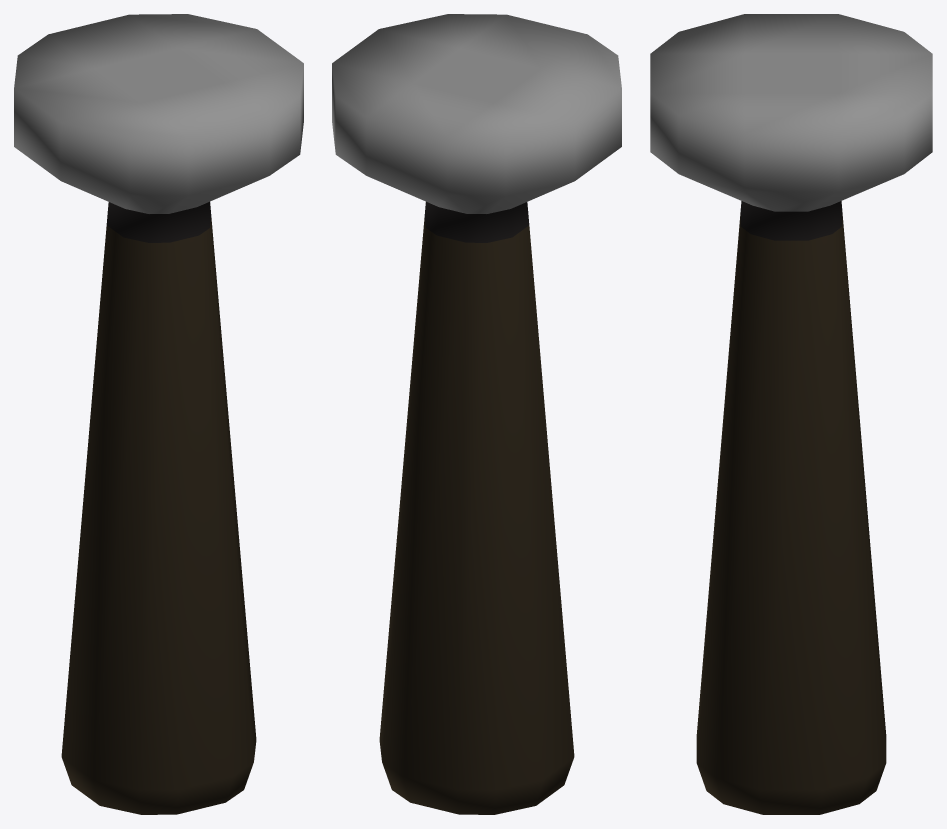
Rendered from Torch.fbx.
3 renders of one model, left to right at view 1: azimuth 30°, elevation 25°; view 2: azimuth 150°, elevation 25°; view 3: azimuth 270°, elevation 25°, orthographic.
Parts seen in each view (by area): view 1: Cube; view 2: Cube; view 3: Cube.
Part boxes in pixels (x1,y1,x2,y2): Cube: (14, 14, 303, 814); Cube: (332, 14, 621, 814); Cube: (650, 14, 932, 814).
Size of the model in its own units: 87 by 247 by 87.
